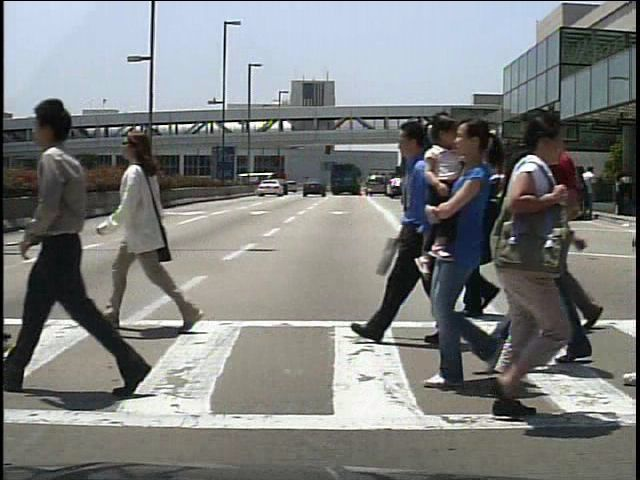person: (26, 79, 176, 403), (441, 111, 576, 427), (363, 118, 482, 347), (108, 121, 189, 339), (435, 130, 507, 322), (529, 141, 594, 337), (532, 104, 562, 376), (582, 168, 602, 218), (490, 163, 508, 216)
